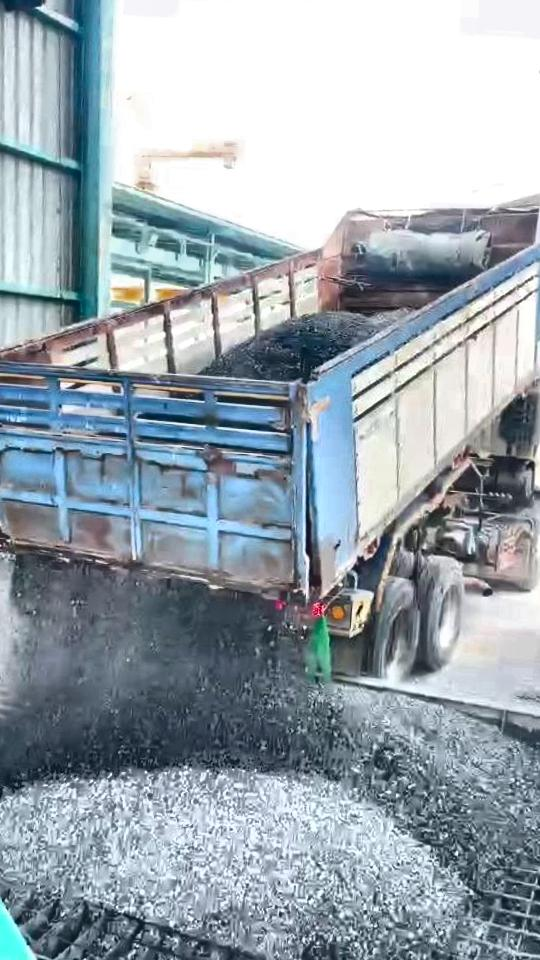gravel: (0, 767, 468, 960), (0, 556, 339, 788), (334, 688, 540, 891), (203, 309, 409, 380), (520, 689, 540, 712)
